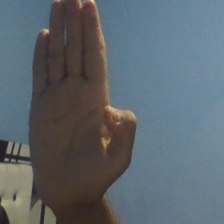B: (25, 1, 140, 212)
